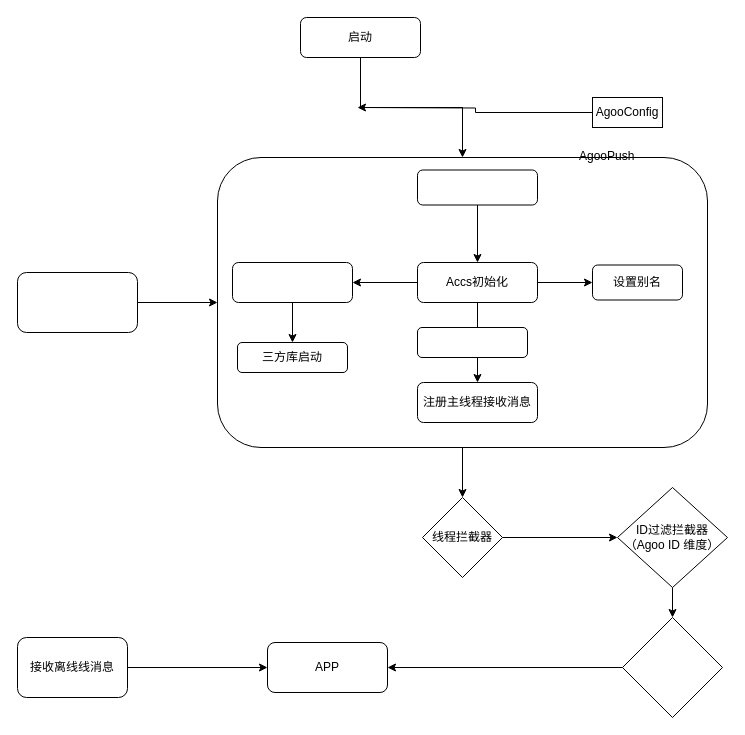
Image size: 745x735. Some labels were removed from this diagram. Here are the shapes that lost their labels. From the top down, the centre of each, then its label:
At point 477,187: "无线保镖初始化".
At point 77,302: "接收在线消息".
At point 292,282: "绑定Agoo 三方库初始化".
At point 472,342: "设置拦截器".
At point 672,667: "自定义拦截器".
